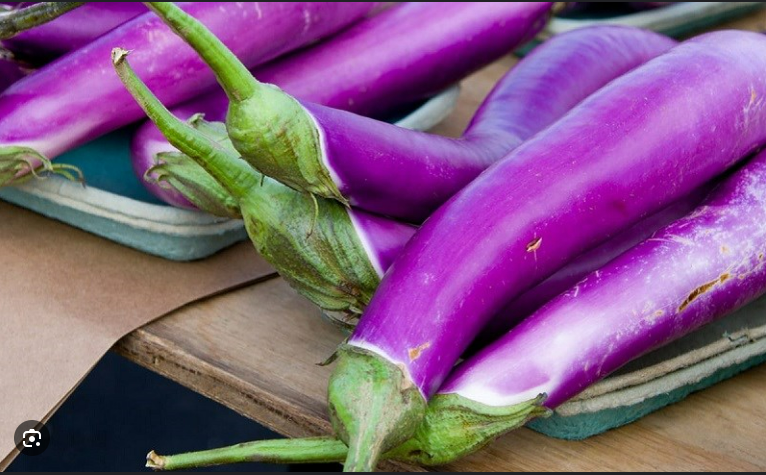catim: (323, 32, 766, 471), (168, 11, 685, 209), (400, 191, 764, 465), (2, 2, 369, 80)
